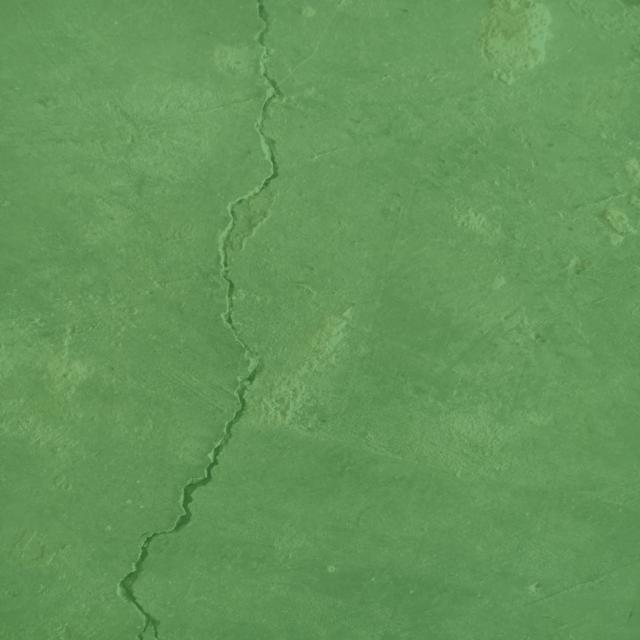crack: (118, 0, 284, 640)
